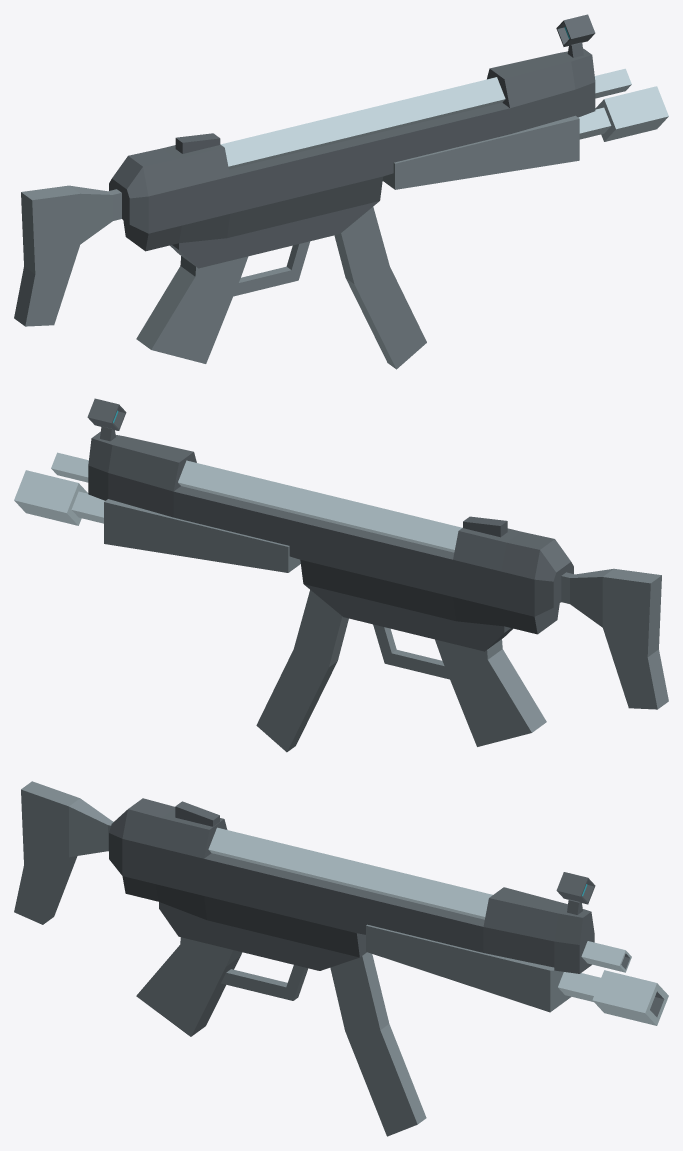
File: smg-mp5.glb
3 views of the same model, one above another, from view 1: azimuth 30°, elevation 25°; view 2: azimuth 150°, elevation 25°; view 3: azimuth 330°, elevation 25° (orthographic).
Visible parts, largest first — view 1: mp5, mag; view 2: mp5, mag; view 3: mp5, mag.
Boxes of the visible parts, box(x1,y1,x2,y2) form: mp5: box(14, 14, 668, 363); mag: box(334, 207, 426, 369); mp5: box(14, 398, 668, 746); mag: box(256, 590, 348, 752); mp5: box(14, 781, 668, 1036); mag: box(330, 952, 426, 1136).
Bounding box in the file's own units: 0.5918 × 0.2692 × 0.0463.
